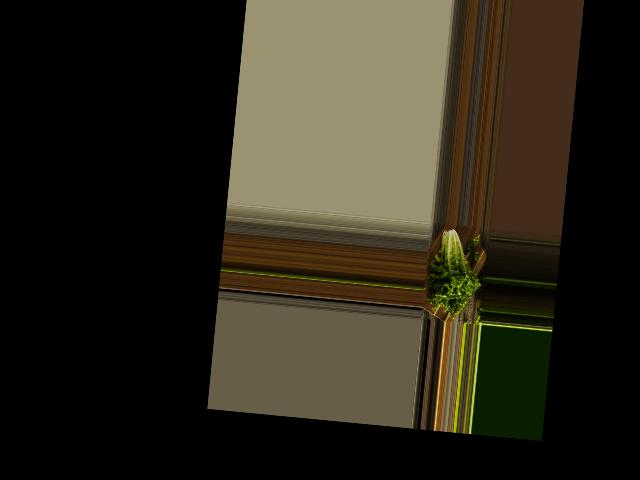lettuce: (424, 222, 484, 316)
